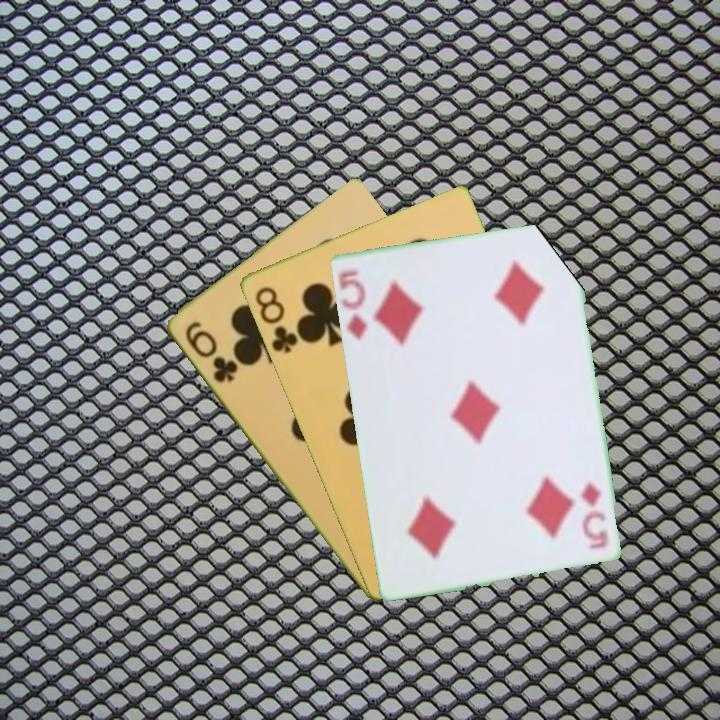5d: (334, 266, 369, 343), (576, 476, 611, 551)
6c: (181, 317, 240, 386)
8c: (250, 282, 300, 356)
